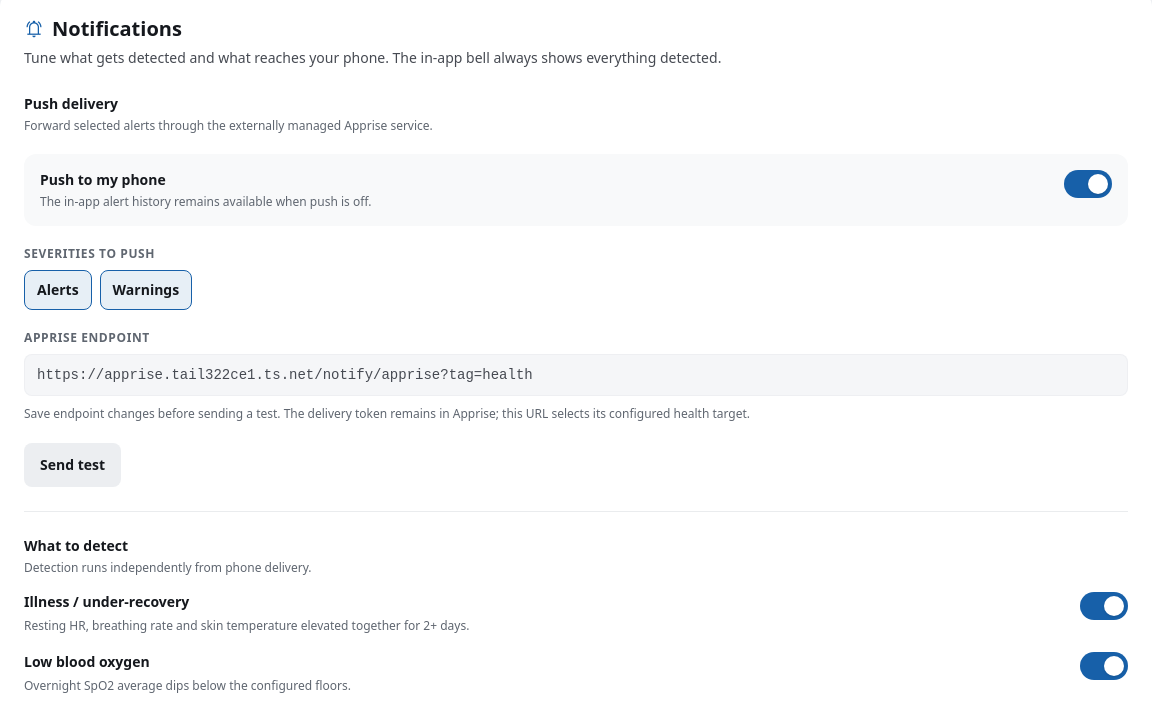
Test case: NotificationSettingsCard › enables Save after an edit and PUTs the updated settings
Step 1. Click the switch with test id "notif-push-toggle" → (1088, 184), box [1064,170,1112,198]
(page scrolled)
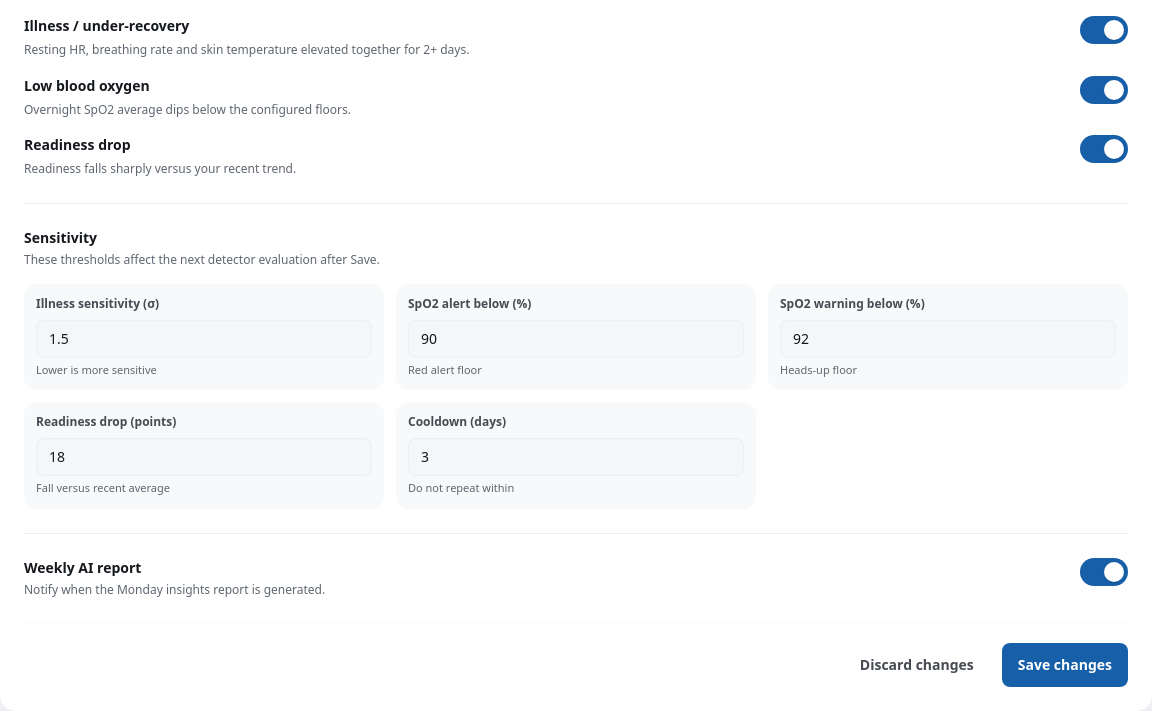
Result: the button with test id "notif-save" is enabled
Step 2. Click the button with test id "notif-save" → (1065, 665), box [1002,643,1128,687]
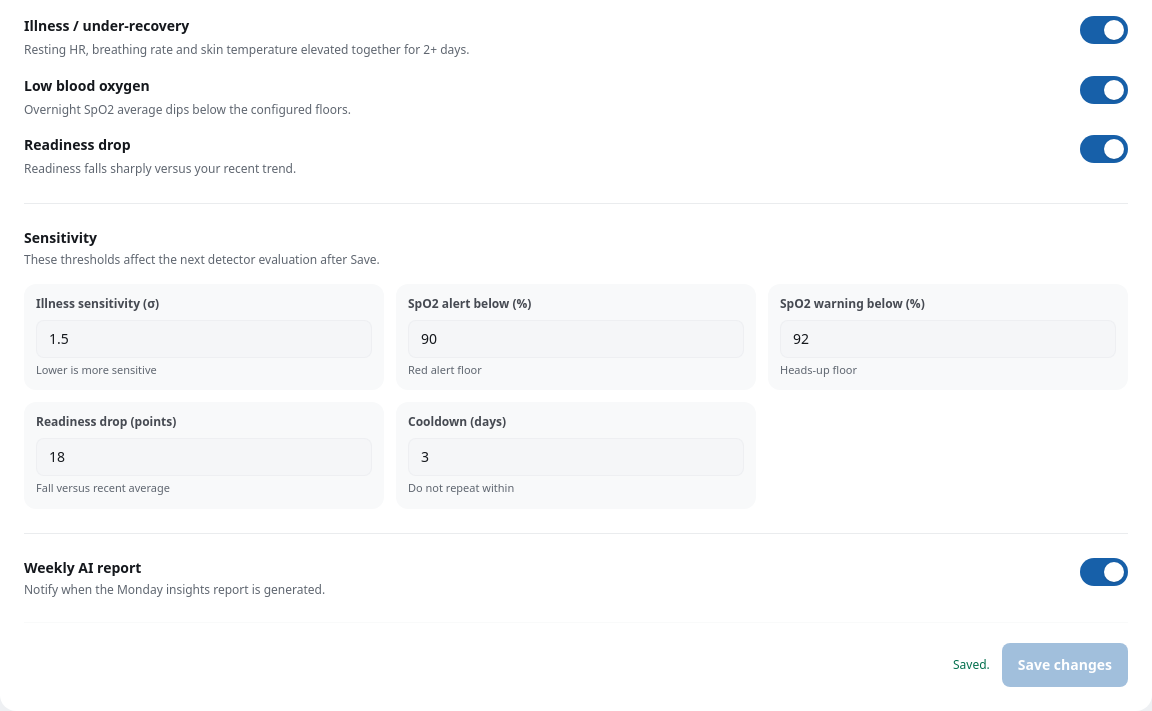
Result: the button with test id "notif-save" is disabled at [1002,643,1128,687]
